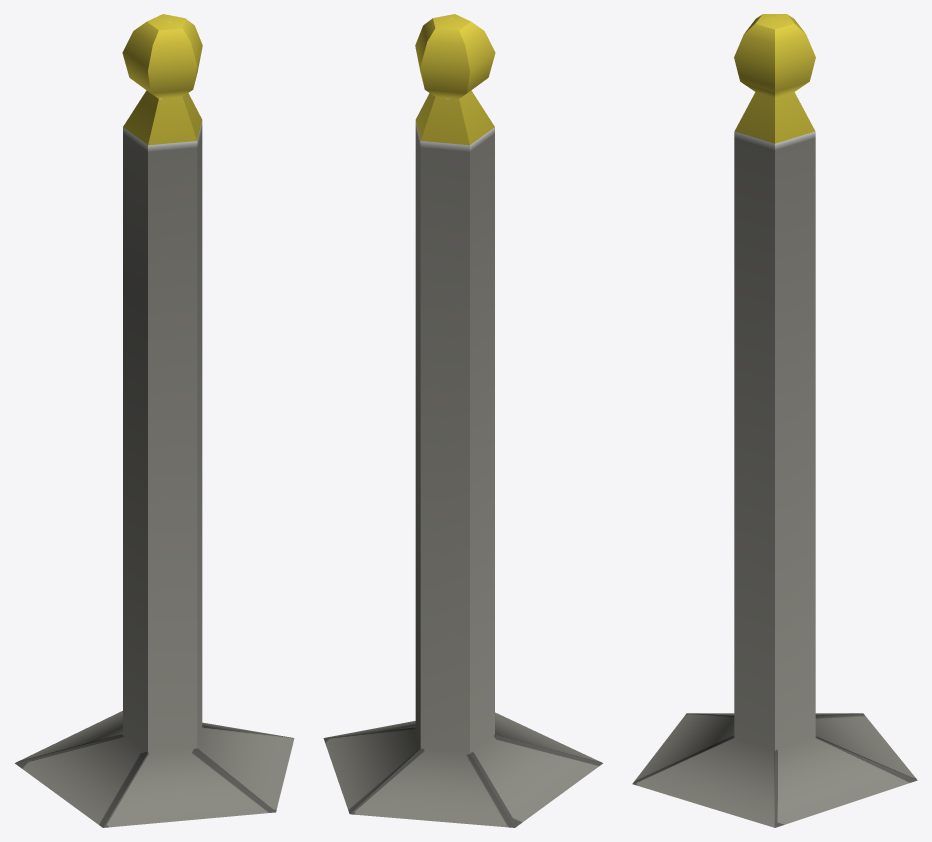
The model's file is Stanchion.fbx.
The picture shows the model from 3 angles, left to right: view 1: azimuth 30°, elevation 25°; view 2: azimuth 150°, elevation 25°; view 3: azimuth 270°, elevation 25°; orthographic projection.
Visible parts, largest first — view 1: pCylinder1; view 2: pCylinder1; view 3: pCylinder1.
Part boxes in pixels (left/top/right/bottom): pCylinder1: left=15, top=14, right=294, bottom=827; pCylinder1: left=323, top=14, right=602, bottom=827; pCylinder1: left=632, top=14, right=917, bottom=827.
Bounding box in the file's own units: 0.9013 × 2.74 × 0.9476.
1 material, 1 textured.
